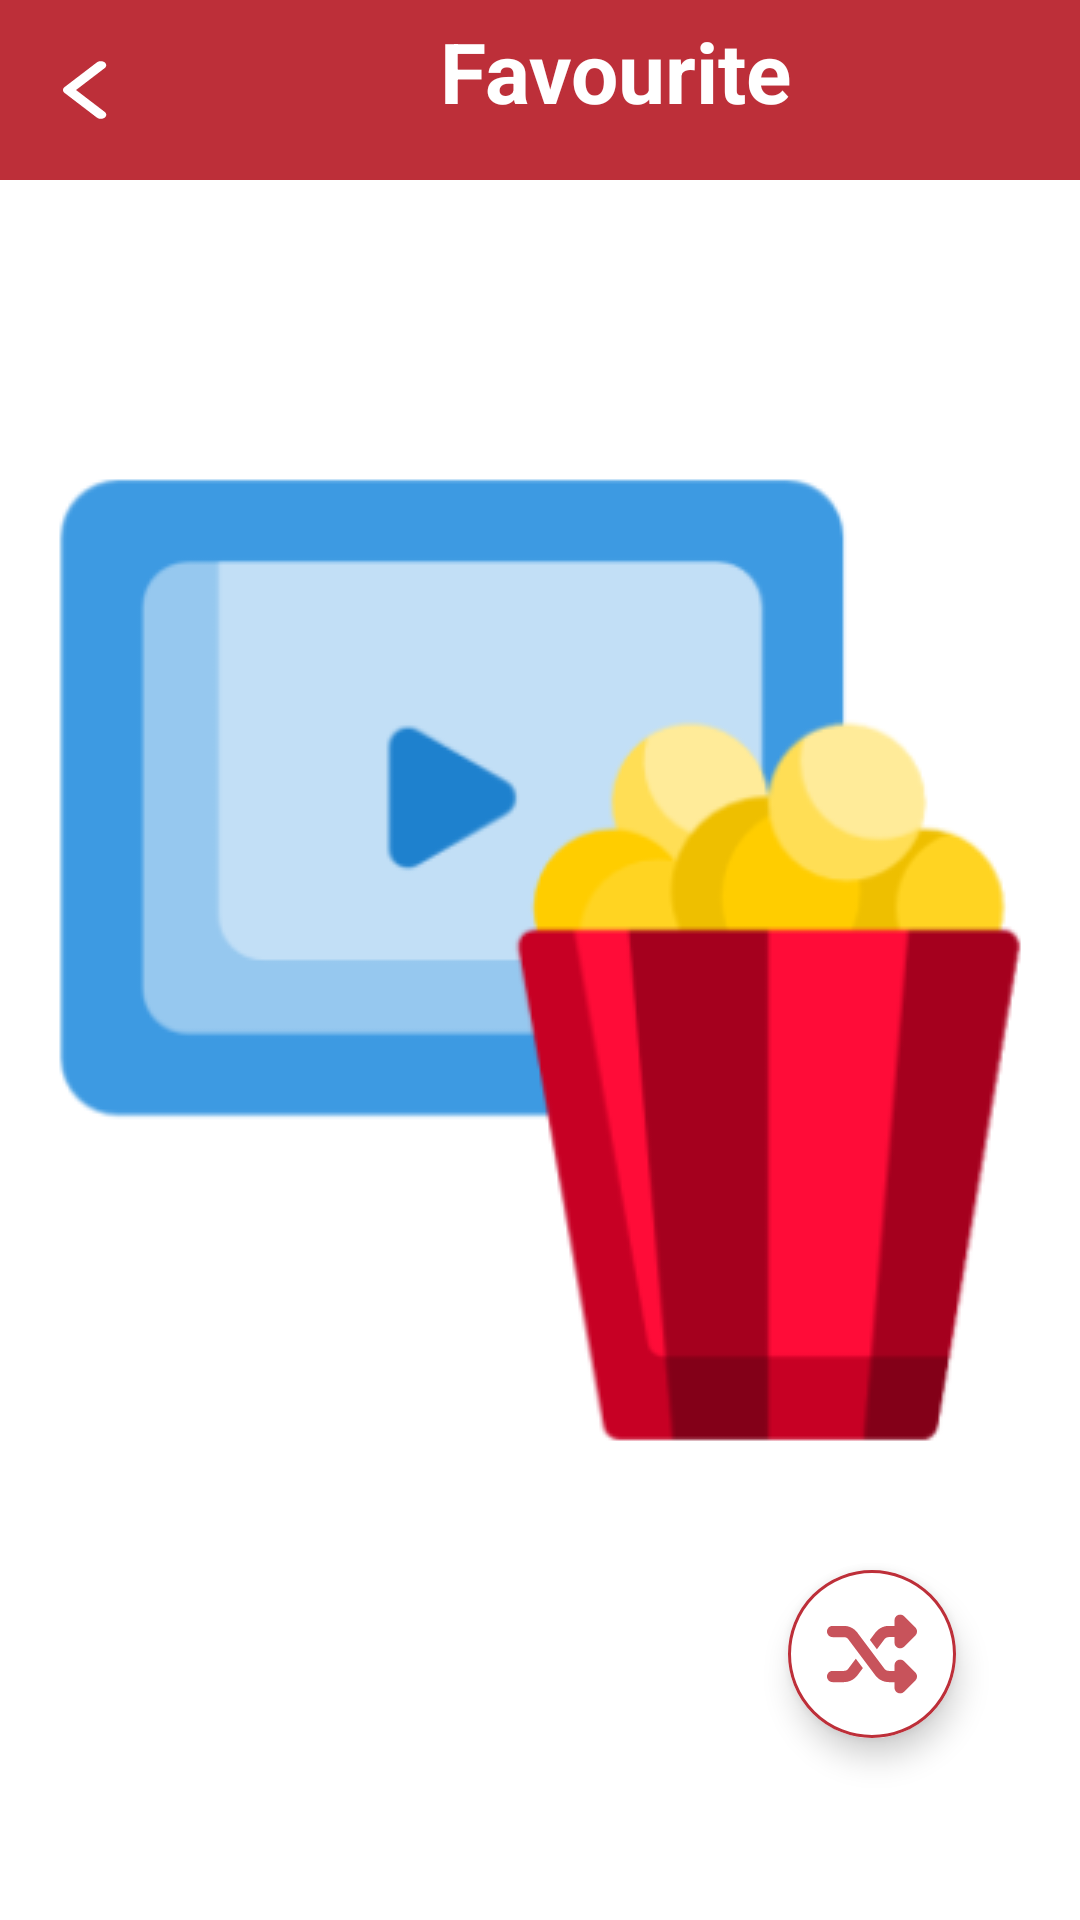

Named icons in this screenshot (1080 x 1920) and their bounding boxes, (x1, y1, x2, y2):
back: (63, 61, 107, 119)
shuffle: (788, 1570, 956, 1738)
